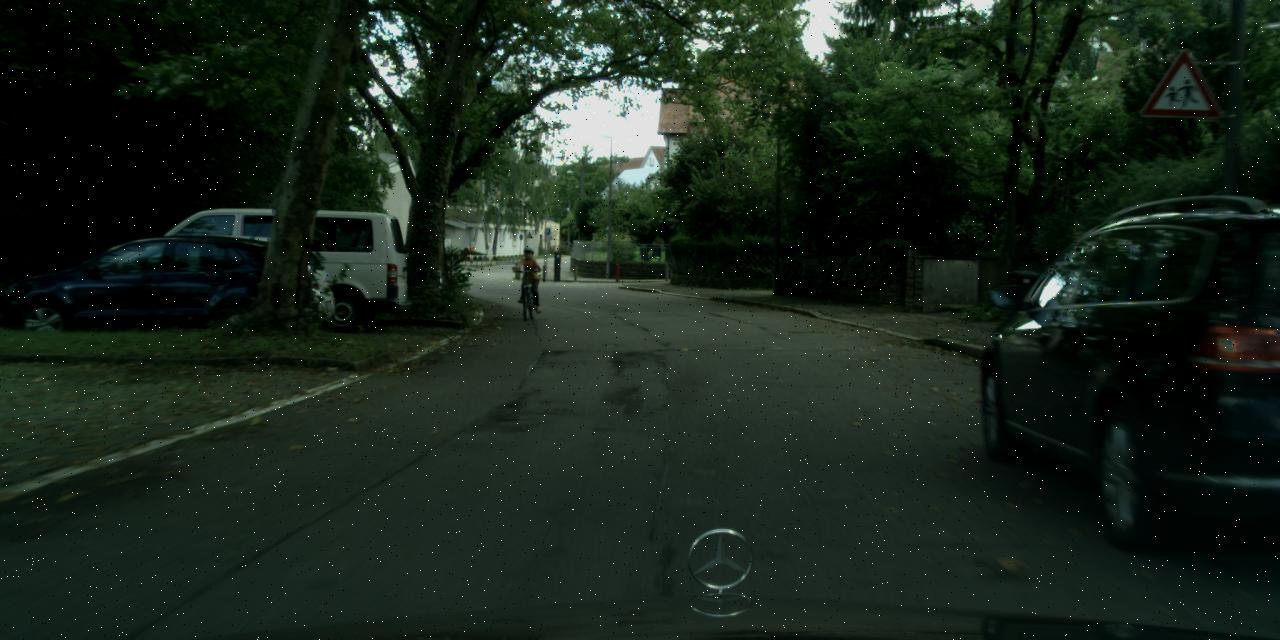ped: (517, 246, 541, 306), (467, 243, 474, 262)
